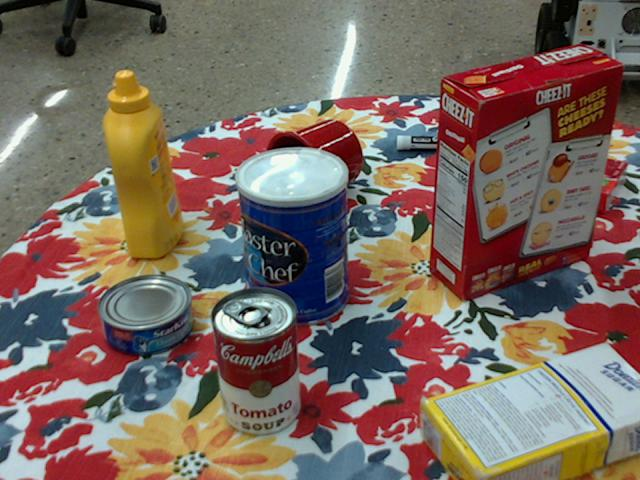cracker_box: (433, 46, 624, 301)
gelatin_box: (542, 149, 624, 212)
large_marker: (397, 134, 492, 149)
master_chef_can: (234, 146, 347, 326)
mug: (263, 119, 362, 210)
mustard_bottle: (104, 72, 183, 258)
sugar_box: (420, 341, 639, 479)
tomato_soup_can: (209, 286, 299, 435)
tuna_fish_can: (97, 273, 192, 353)
